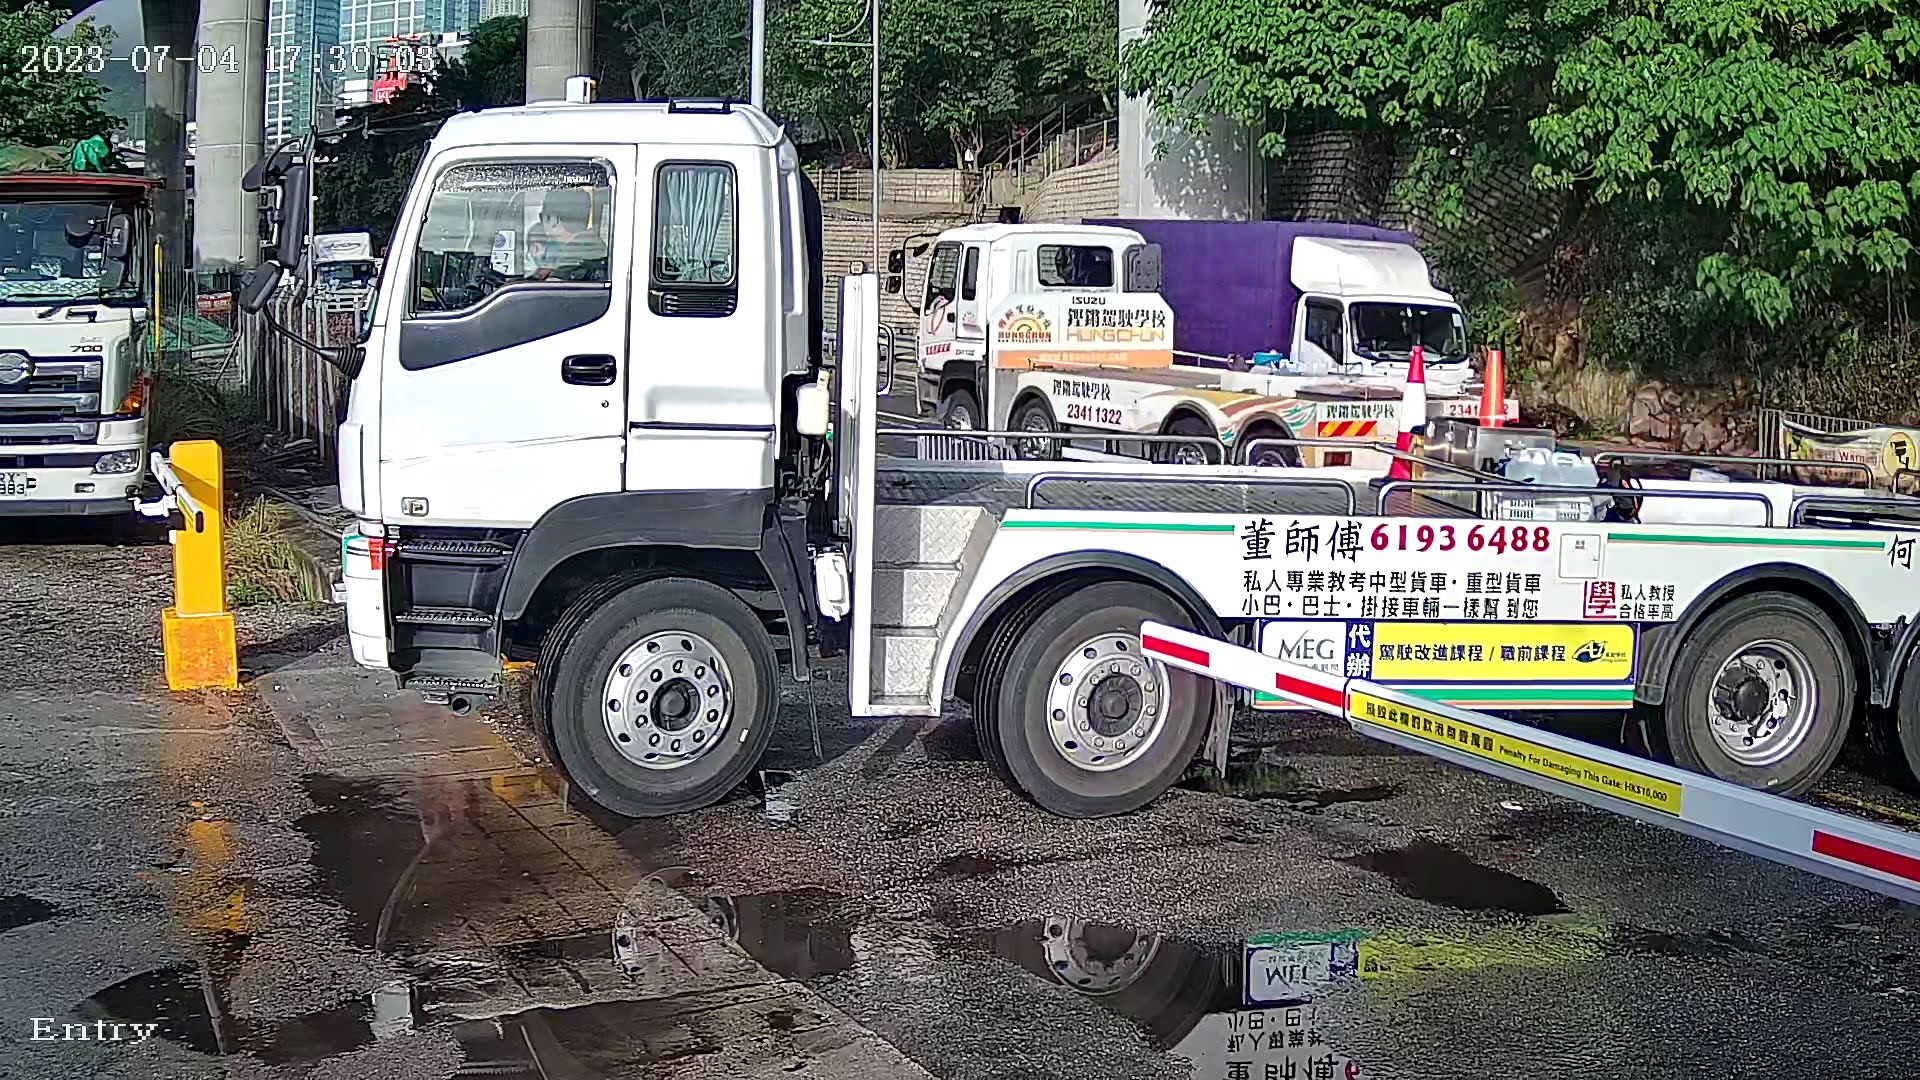truck_large: (323, 40, 1912, 887)
